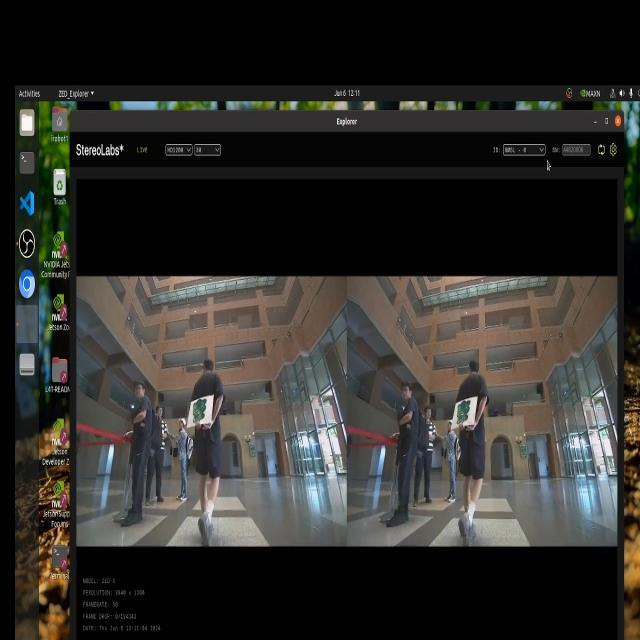green: (192, 410, 212, 436), (456, 398, 471, 432)
